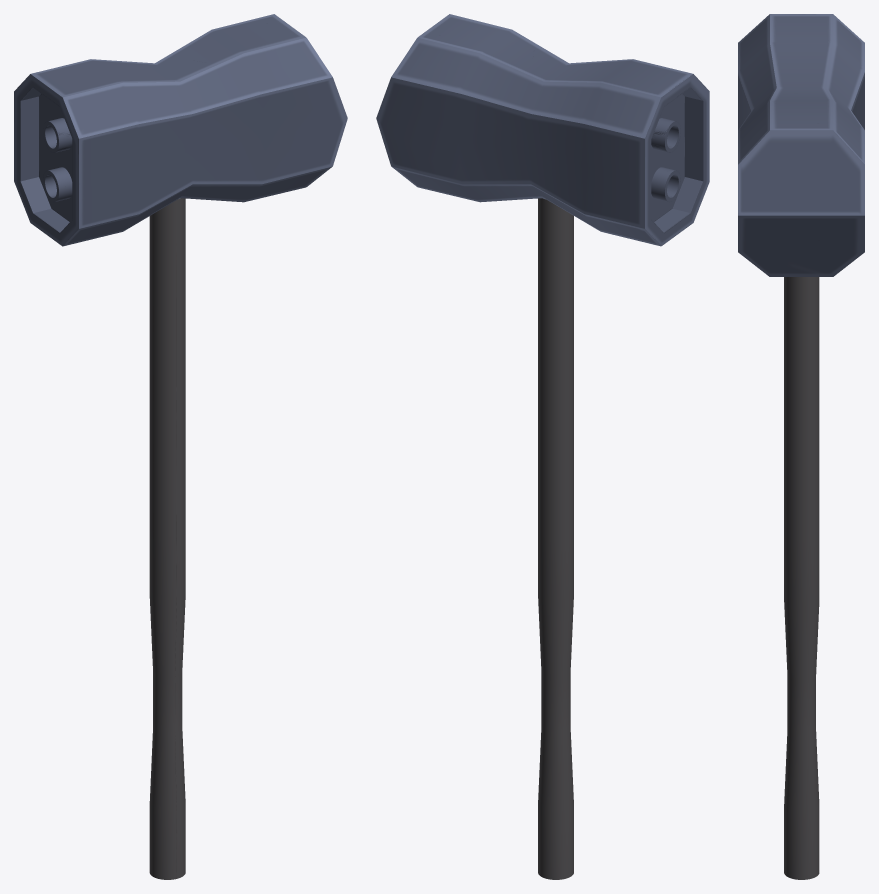
The model's file is Hammer.fbx.
3 renders of one model, left to right at view 1: azimuth 30°, elevation 25°; view 2: azimuth 150°, elevation 25°; view 3: azimuth 270°, elevation 25°, orthographic.
Parts seen in each view (by area): view 1: Cylinder; view 2: Cylinder; view 3: Cylinder.
Part boxes in pixels (<box>): Cylinder: <box>14,14,347,879</box>; Cylinder: <box>376,14,709,879</box>; Cylinder: <box>738,14,864,879</box>.
Bounding box in the file's own units: 41.48 × 17.3 × 120.
